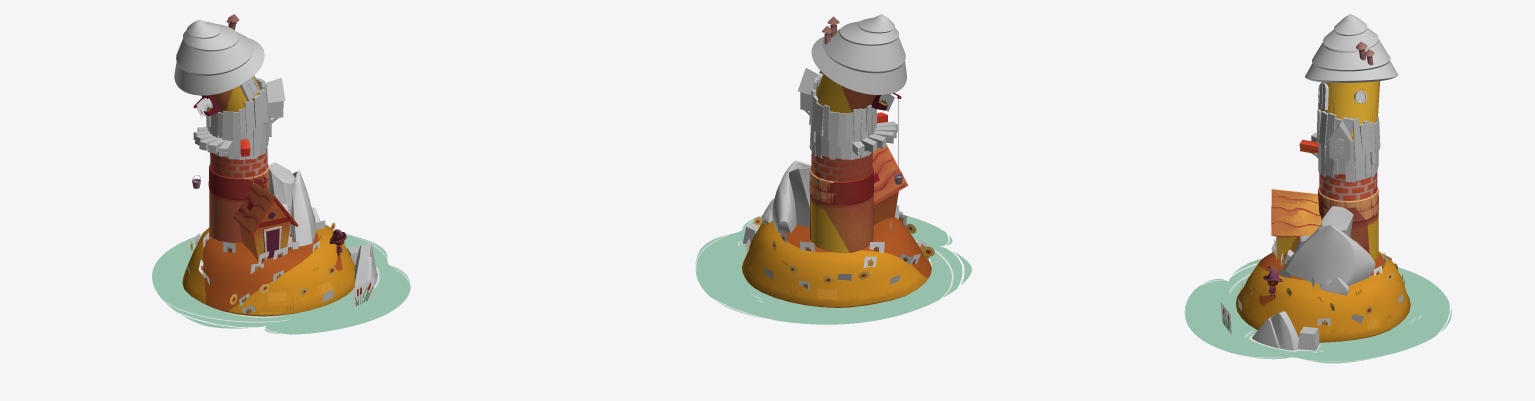
The model's file is Witchtower2704.fbx.
The picture shows the model from 3 angles, left to right: view 1: azimuth 30°, elevation 25°; view 2: azimuth 150°, elevation 25°; view 3: azimuth 270°, elevation 25°; orthographic projection. The views are drawn at different scales.
Parts seen in each view (by area): view 1: Island1, Sea, Roof1, Tower2, Rock4, Roof2, Walls, Rock, Rock10, Door, Reeds; view 2: Island1, Sea, Tower2, Roof1, Roof2, Rock4, Rock, Walls; view 3: Sea, Island1, Tower2, Roof1, Rock4, Roof2, Rock10, Walls (×2), Rock, Rock5, Rock6, Plank8.
Boxes of the visible parts, box(x1,y1,x2,y2) form: Island1: box(182, 224, 355, 316); Sea: box(152, 233, 410, 334); Roof1: box(174, 19, 264, 95); Tower2: box(208, 75, 269, 242); Rock4: box(290, 170, 316, 246); Roof2: box(232, 183, 298, 236); Walls: box(239, 201, 290, 261); Rock: box(269, 162, 294, 242); Rock10: box(354, 243, 377, 287); Door: box(263, 226, 281, 260); Reeds: box(352, 278, 374, 307); Island1: box(741, 217, 931, 307); Sea: box(695, 214, 971, 324); Tower2: box(809, 74, 875, 253); Roof1: box(811, 14, 906, 95); Roof2: box(872, 144, 908, 205); Rock4: box(772, 160, 811, 233); Rock: box(789, 166, 810, 227); Walls: box(873, 191, 898, 224); Sea: box(1184, 258, 1451, 363); Island1: box(1235, 250, 1410, 342); Tower2: box(1318, 81, 1380, 259); Roof1: box(1305, 14, 1398, 82); Rock4: box(1283, 224, 1375, 285); Roof2: box(1271, 189, 1321, 236); Rock10: box(1252, 311, 1298, 350); Walls (×2): box(1277, 126, 1350, 259); Rock: box(1283, 206, 1353, 263); Rock5: box(1298, 326, 1320, 350); Rock6: box(1319, 277, 1349, 295); Plank8: box(1352, 118, 1363, 161).
Size of the model in its own units: 14.57 by 11.64 by 15.16.
